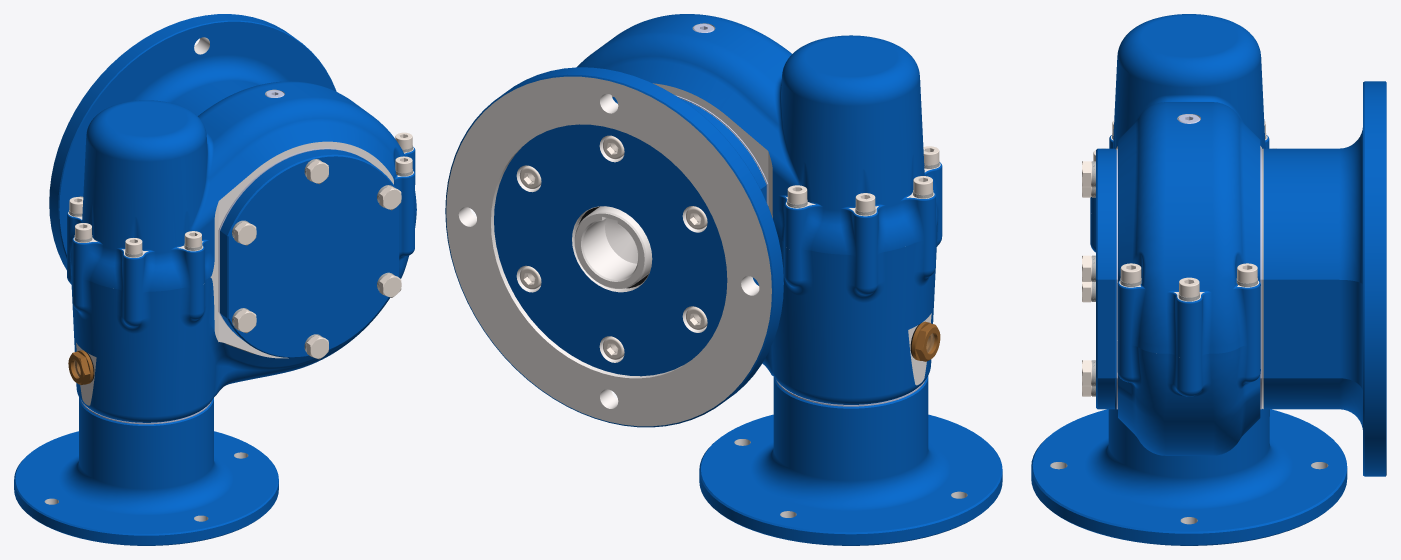
File: reductor-compressed.glb
3 views of the same model, side by side, from view 1: azimuth 30°, elevation 25°; view 2: azimuth 150°, elevation 25°; view 3: azimuth 270°, elevation 25° (orthographic). The views are drawn at different scales.
Parts seen in each view (by area): view 1: Carcassa Superior-1, Brides Roda-1/Tapa Roda-1, Brida Vis-2/Brida Vis-1, Carcassa Inferior-1, Brides Roda-1/Brida Roda-1, 5095K112_Nivell Oli-1; view 2: Brides Roda-1/Brida Roda-1, Carcassa Superior-1, Brida Vis-2/Brida Vis-1, Carcassa Inferior-1, Eix Roda-1, 5095K112_Nivell Oli-1; view 3: Carcassa Superior-1, Brides Roda-1/Brida Roda-1, Brida Vis-2/Brida Vis-1, Carcassa Inferior-1, Brides Roda-1/Tapa Roda-1.
Part boxes in pixels (left/top/right/bottom): Carcassa Superior-1: left=67, top=81, right=416, bottom=294; Brides Roda-1/Tapa Roda-1: left=220, top=149, right=399, bottom=357; Brida Vis-2/Brida Vis-1: left=14, top=397, right=278, bottom=545; Carcassa Inferior-1: left=67, top=212, right=416, bottom=422; Brides Roda-1/Brida Roda-1: left=49, top=14, right=336, bottom=269; 5095K112_Nivell Oli-1: left=68, top=350, right=94, bottom=384; Brides Roda-1/Brida Roda-1: left=445, top=67, right=783, bottom=427; Carcassa Superior-1: left=577, top=14, right=942, bottom=257; Brida Vis-2/Brida Vis-1: left=699, top=376, right=1002, bottom=545; Carcassa Inferior-1: left=762, top=206, right=942, bottom=404; Eix Roda-1: left=574, top=206, right=652, bottom=288; 5095K112_Nivell Oli-1: left=910, top=321, right=940, bottom=361; Carcassa Superior-1: left=1090, top=14, right=1269, bottom=359; Brides Roda-1/Brida Roda-1: left=1262, top=81, right=1386, bottom=476; Brida Vis-2/Brida Vis-1: left=1031, top=408, right=1347, bottom=545; Carcassa Inferior-1: left=1090, top=212, right=1260, bottom=455; Brides Roda-1/Tapa Roda-1: left=1096, top=148, right=1116, bottom=409.
Size of the model in its own units: 0.337 by 0.3175 by 0.225.
